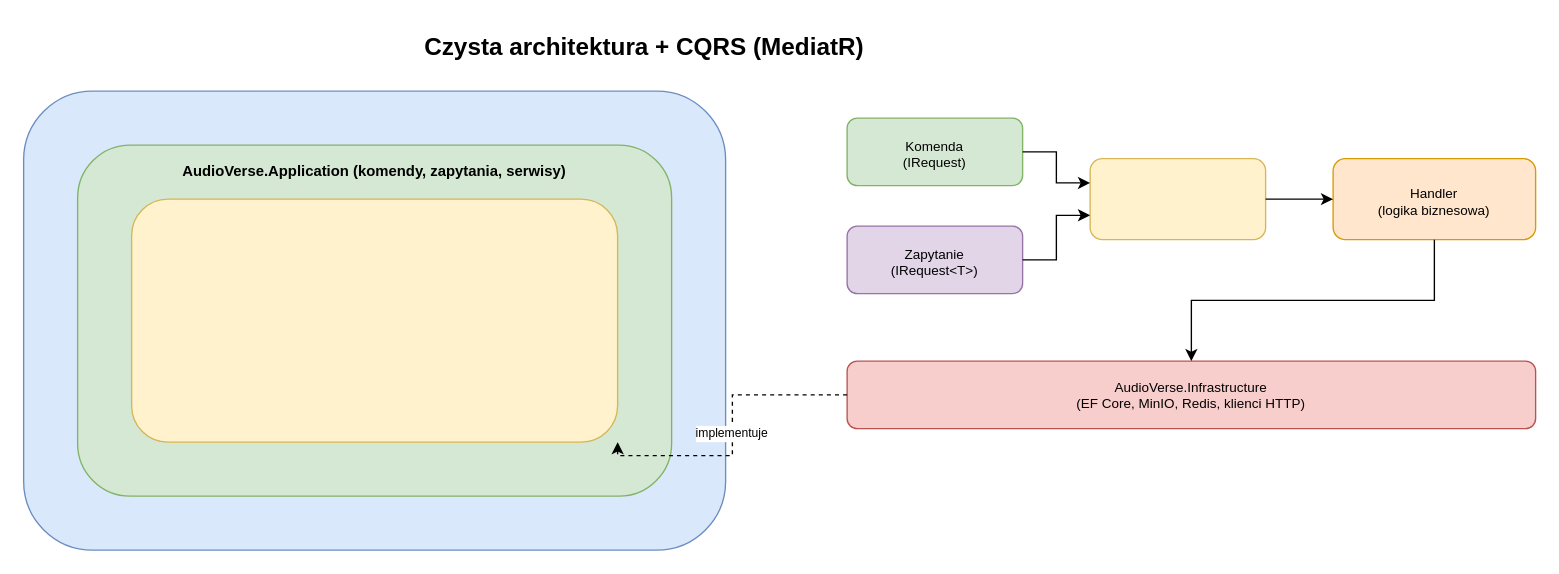
This 1559x574 diagram has some shape labels left out. Here are the shapes that lost their labels. From the top down, the box of each, then its label:
(1089, 157, 1266, 240): MediatR Potok
(22, 90, 726, 550): AudioVerse.API (kontrolery, huby, middleware)
(130, 198, 618, 442): AudioVerse.Domain (encje, enumy, interfejsy)
